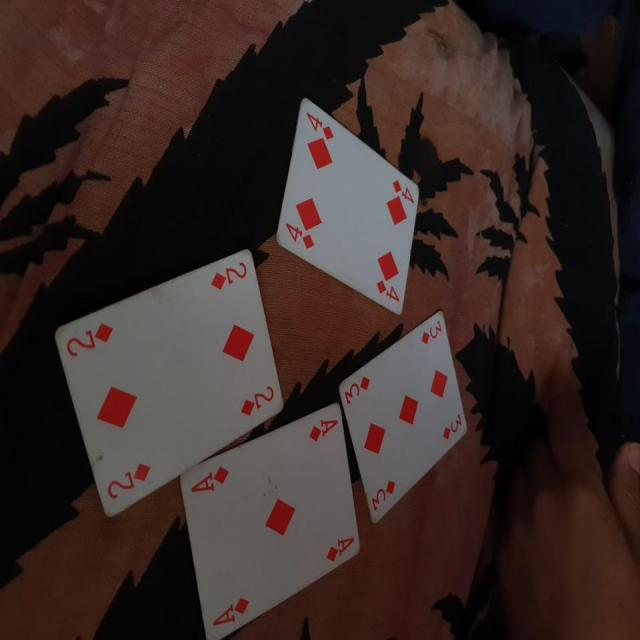2 Diamonds: (55, 246, 290, 521)
3 Diamonds: (333, 312, 470, 525)
4 Diamonds: (275, 95, 421, 322)
A Diamonds: (168, 394, 361, 629)
